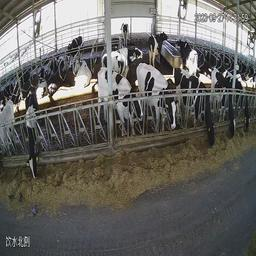cow: (91, 64, 145, 146), (174, 63, 217, 155), (134, 59, 178, 141), (23, 89, 47, 187), (213, 68, 236, 144), (143, 22, 170, 67), (99, 43, 143, 69), (174, 35, 199, 71), (237, 80, 252, 139), (69, 58, 90, 89), (47, 58, 65, 94), (66, 35, 84, 58), (34, 67, 47, 97), (119, 20, 133, 45)
